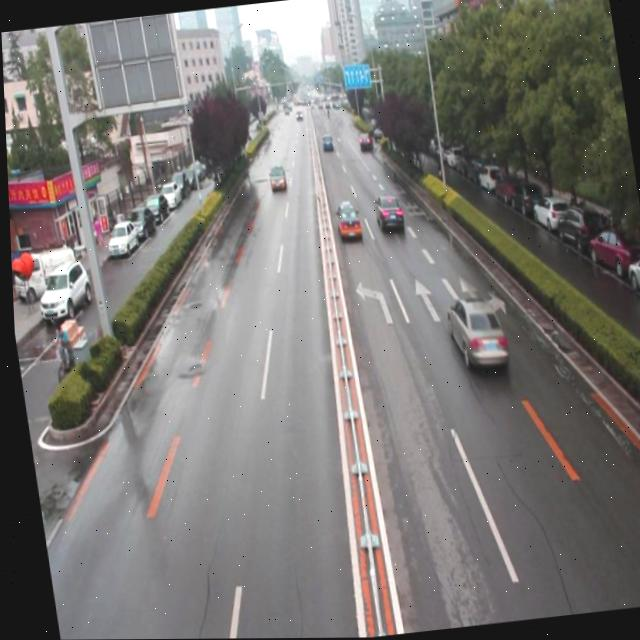car: (440, 293, 506, 372), (330, 195, 359, 241), (369, 191, 401, 229), (264, 162, 285, 189), (356, 132, 371, 151), (318, 133, 331, 152)
